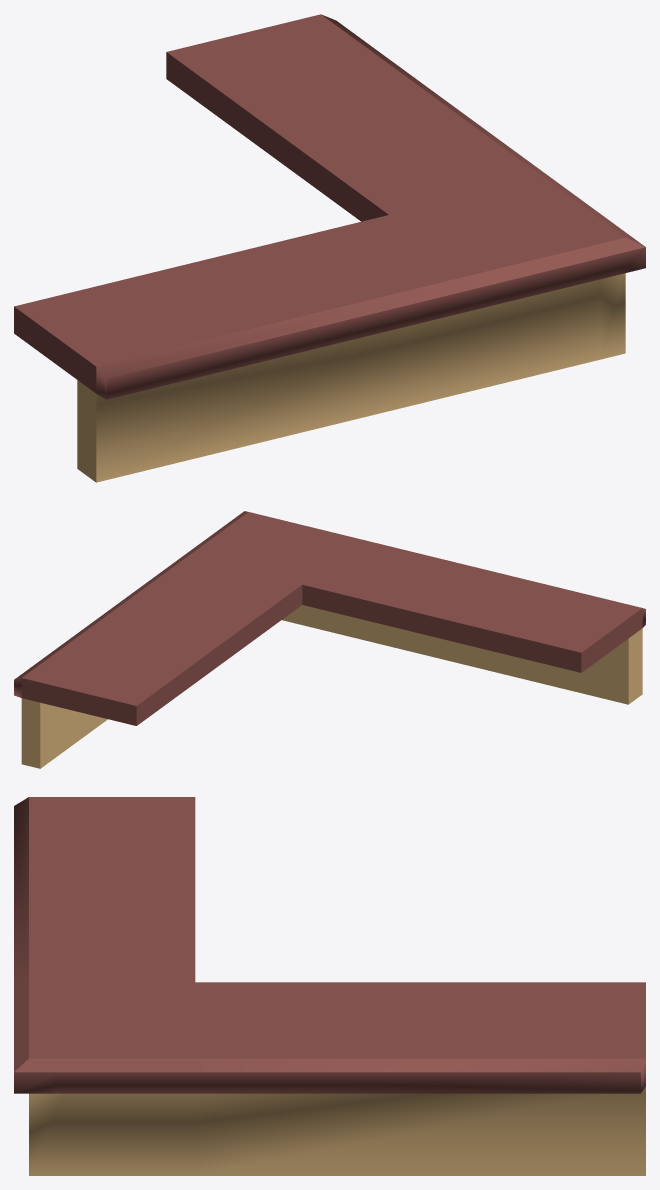
The model's file is Receptionist Desk.fbx.
3 renders of one model, top to bottom at view 1: azimuth 30°, elevation 25°; view 2: azimuth 150°, elevation 25°; view 3: azimuth 270°, elevation 25°, orthographic. The views are drawn at different scales.
Visible parts, largest first — view 1: Recept Desk; view 2: Recept Desk; view 3: Recept Desk.
Part boxes in pixels (box(x1,y1,x2,y2)): Recept Desk: box(14, 14, 645, 482); Recept Desk: box(14, 511, 645, 768); Recept Desk: box(14, 797, 645, 1175).
Bounding box in the file's own units: 405 × 82.77 × 404.
